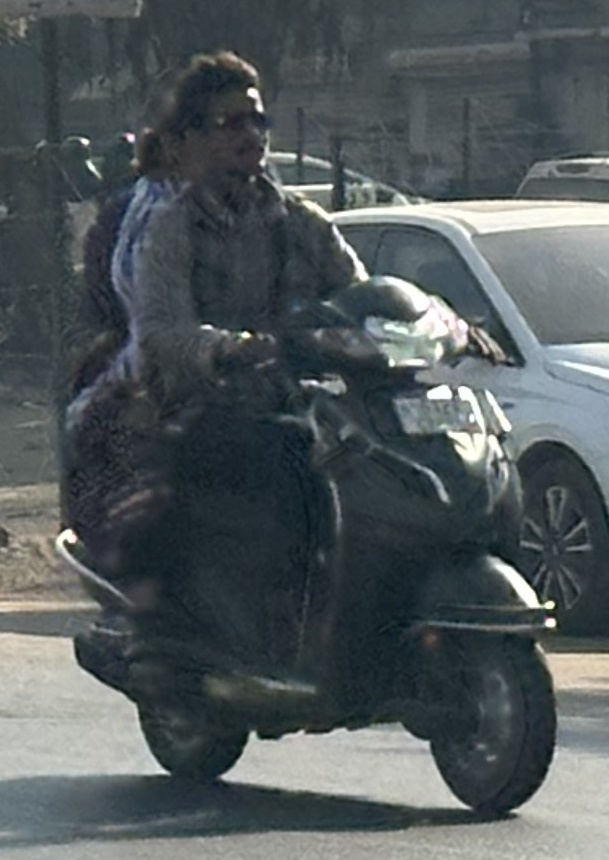BikeWithRider: (36, 29, 570, 817)
NoHelmet: (167, 42, 276, 180)
